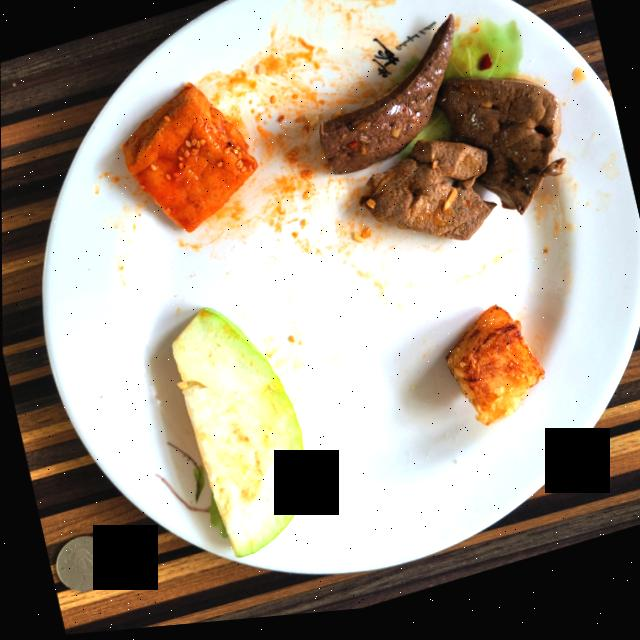coin: (54, 536, 112, 592)
creamy tofu: (121, 86, 256, 234)
fried potato: (444, 313, 543, 433)
guava -sliced-: (171, 311, 305, 561)
pig liver: (319, 23, 564, 248)
